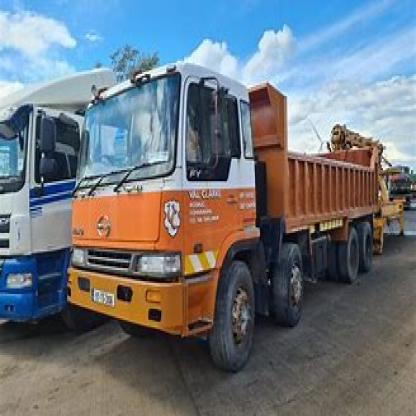dump_truck: (70, 52, 384, 375)
